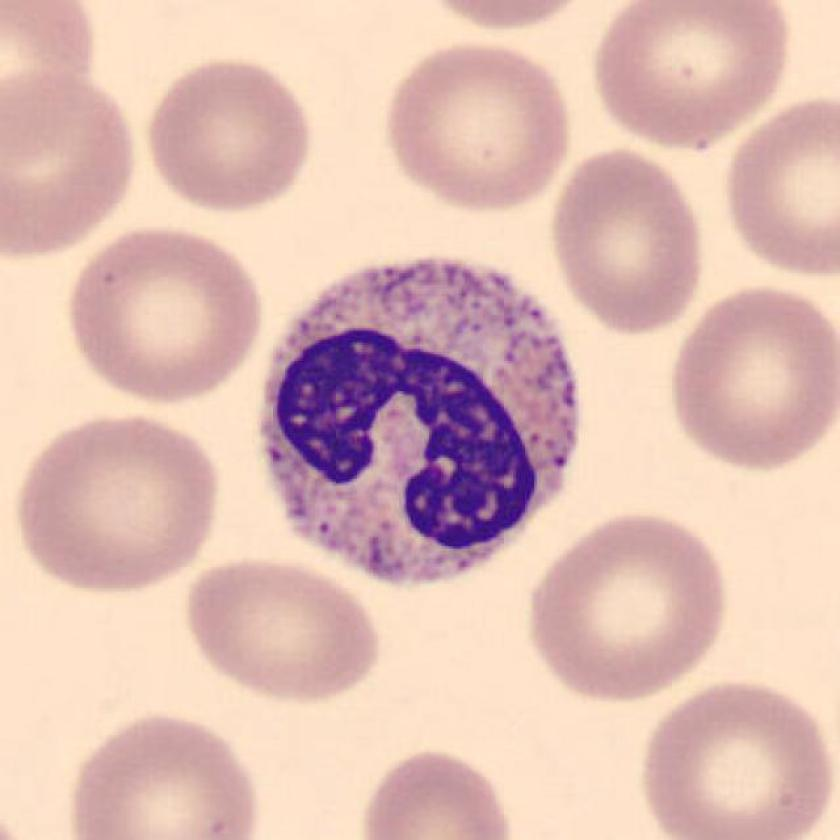neutrophil: (262, 261, 580, 585)
